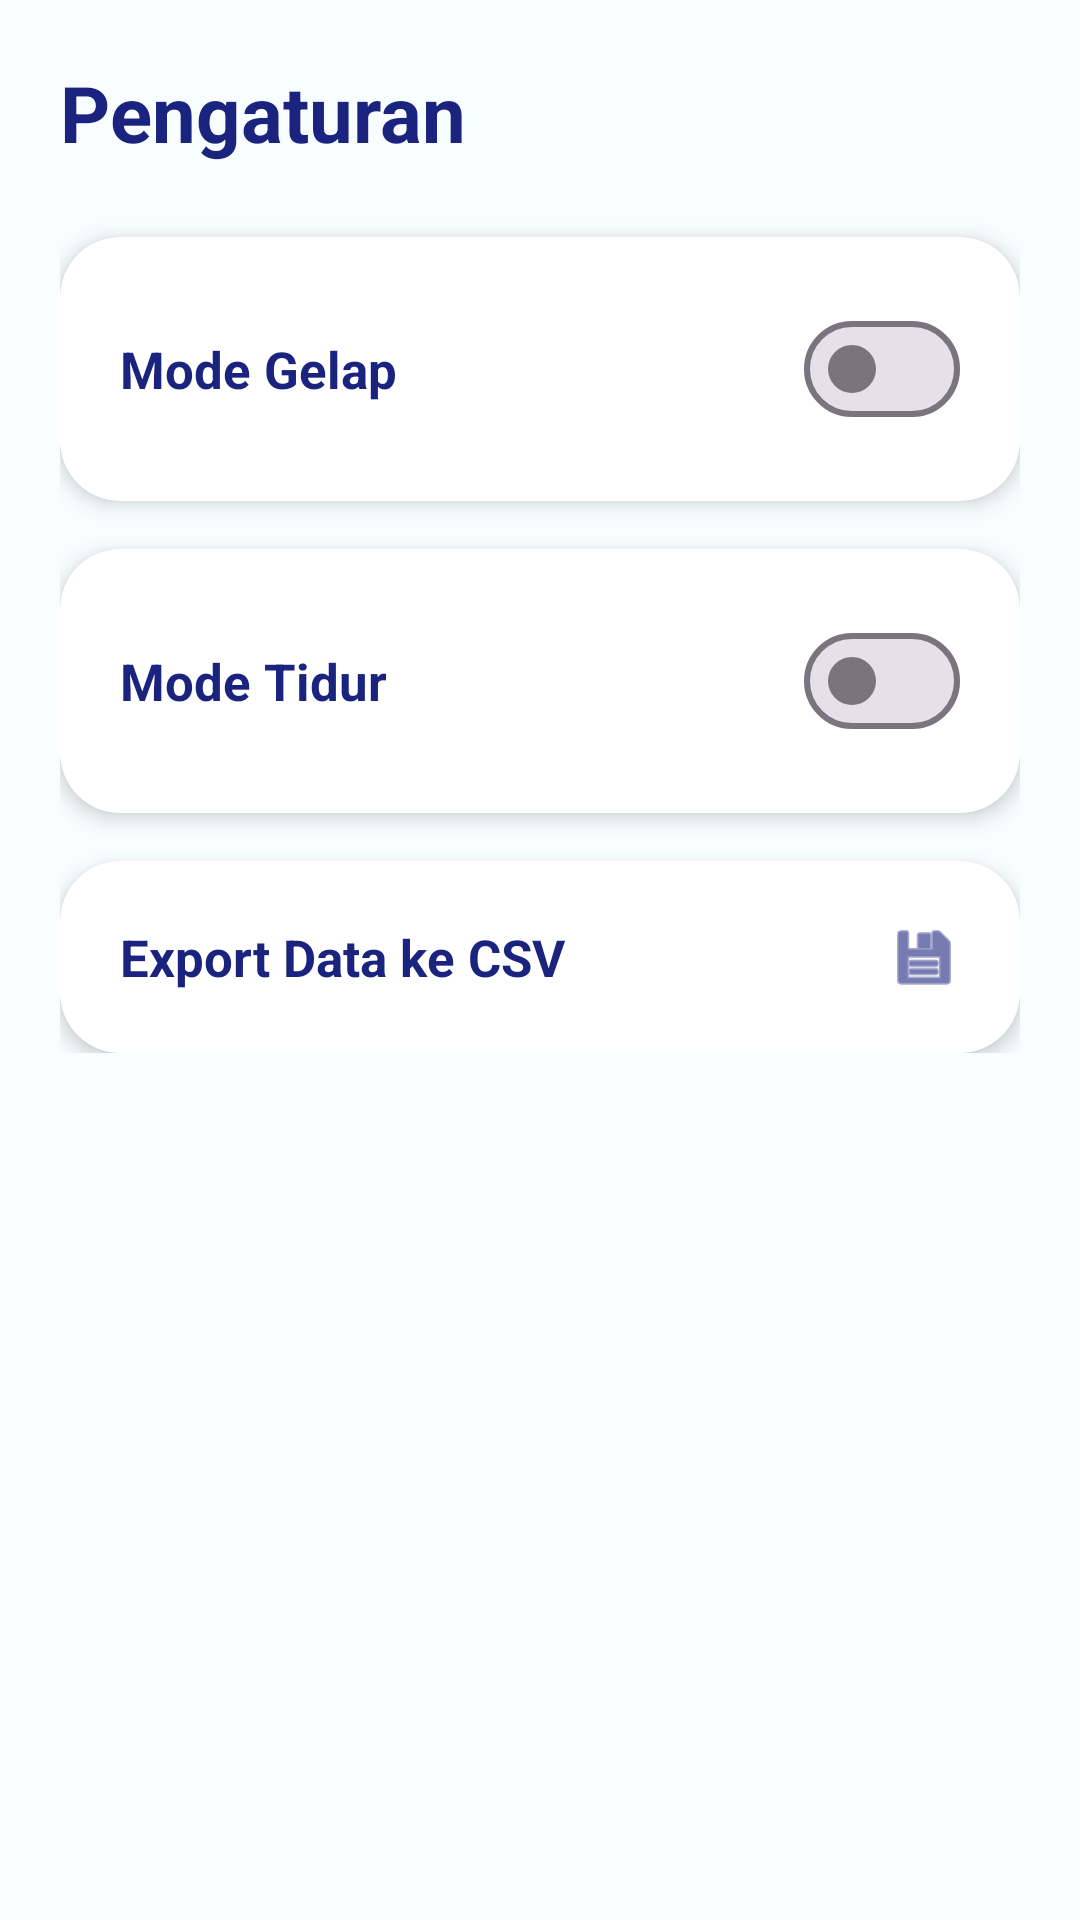

Point at icon controls on the screen. Image size 1080×1920, points as (x,y).
save: (924,957)
